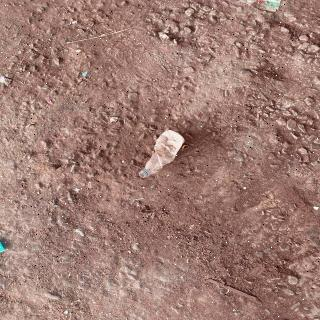Plastic-bottle: (135, 128, 188, 181)
